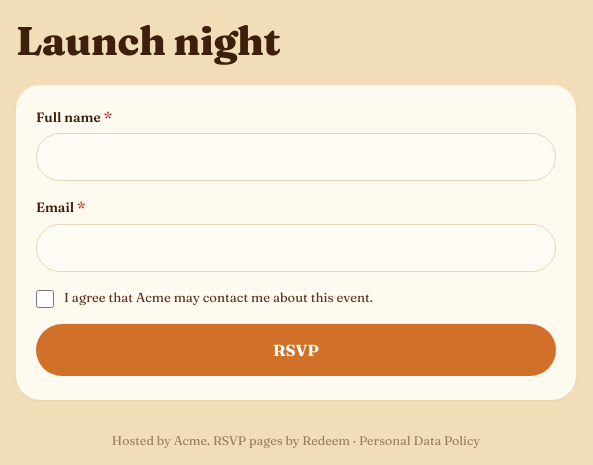
Test: RsvpPublicPage › renders the event, submits, and shows the confirmation
The width and height of the screenshot is (593, 465).
Expected: the heading "Launch night" is shown, 16,16 -> 280,65
Type "Alice" into the field labelled "Full name *".
click(296, 157); type("Alice")  # box 36,133 -> 556,181
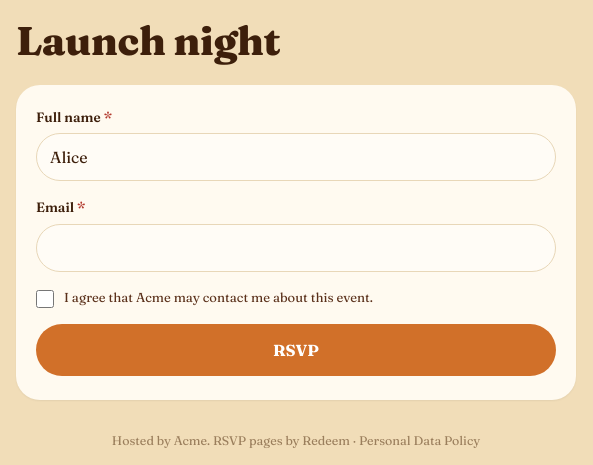
Type "alice@example.com" into the field labelled "Email *".
click(296, 248); type("alice@example.com")  # box 36,224 -> 556,272
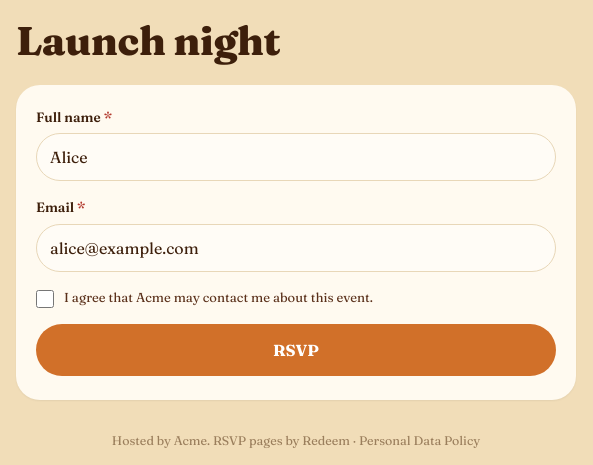
Click the checkbox labelled "I agree that Acme may contact me about this event.".
click(45, 298)  # box 36,290 -> 54,308
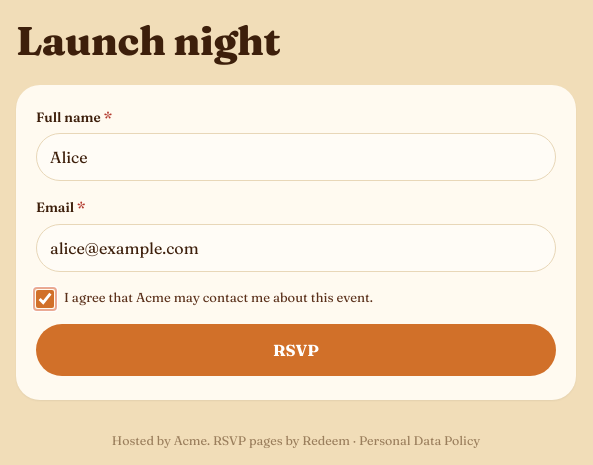
Click the button "RSVP".
click(296, 350)  # box 36,324 -> 556,376
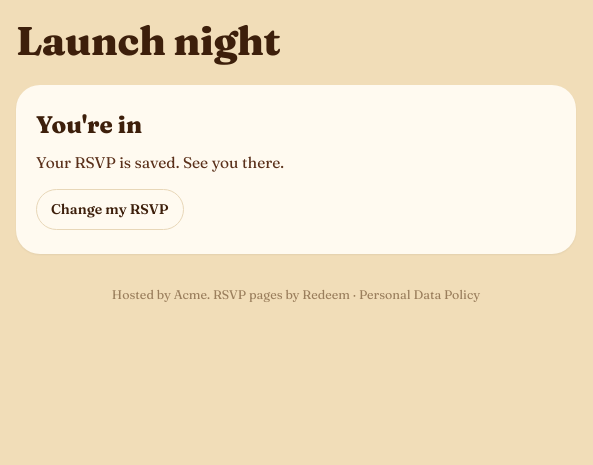
Result: the heading "You're in" is shown at 36,110 -> 142,139
